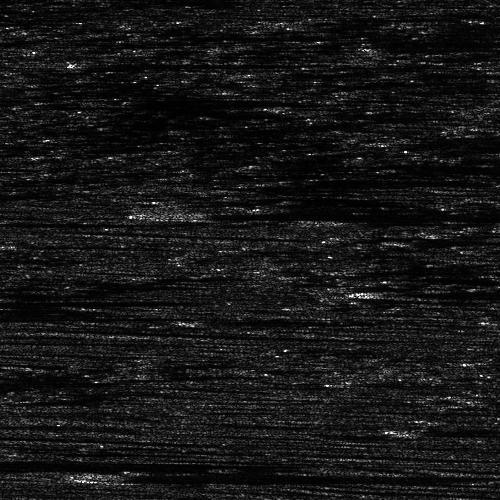object: (111, 204, 256, 221), (0, 291, 61, 312), (337, 286, 410, 297), (39, 60, 122, 69), (451, 314, 500, 323), (0, 373, 20, 392), (369, 239, 432, 244), (179, 318, 232, 323), (0, 221, 4, 224)
shadow: (184, 204, 500, 221), (0, 456, 263, 471), (0, 307, 243, 322), (0, 291, 146, 312), (0, 373, 108, 392), (81, 60, 283, 69), (374, 286, 500, 297), (206, 318, 392, 323), (401, 239, 500, 244), (0, 221, 161, 224)
